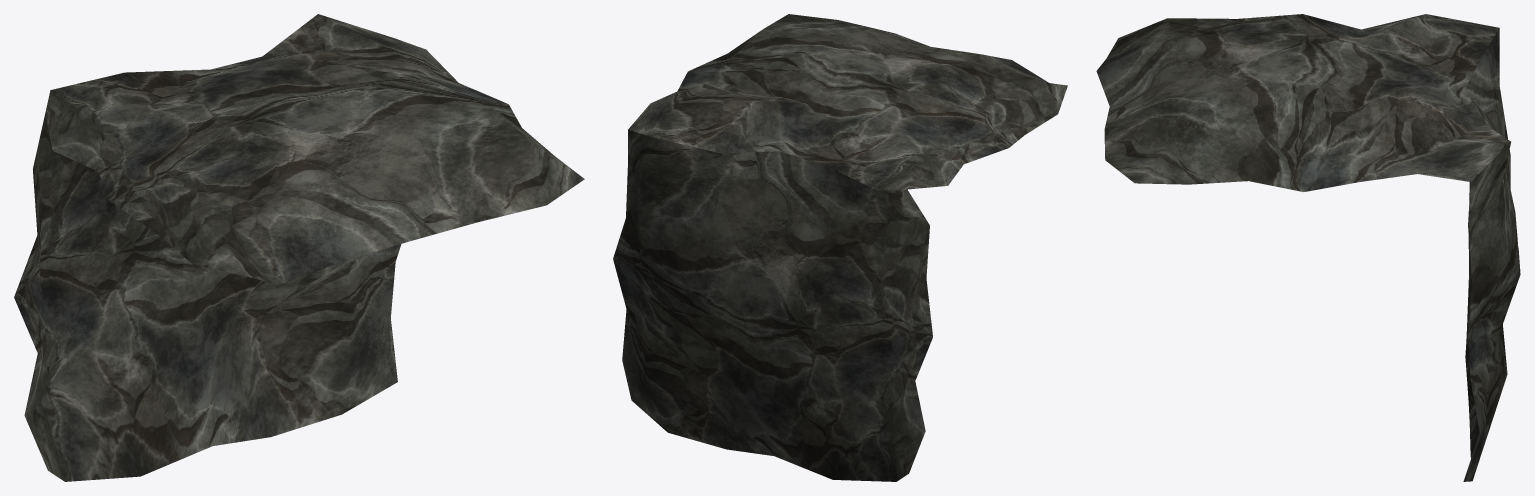
File: CliffB4x4.fbx
3 renders of one model, left to right at view 1: azimuth 30°, elevation 25°; view 2: azimuth 150°, elevation 25°; view 3: azimuth 270°, elevation 25°, orthographic. The views are drawn at different scales.
Visible parts, largest first — view 1: CliffB4x4; view 2: CliffB4x4; view 3: CliffB4x4.
Boxes of the visible parts, x1=… form: CliffB4x4: x1=14, y1=14, x2=584, y2=481; CliffB4x4: x1=613, y1=14, x2=1067, y2=481; CliffB4x4: x1=1096, y1=14, x2=1520, y2=481.
Size of the model in its own units: 4.94 by 5.05 by 5.16.
